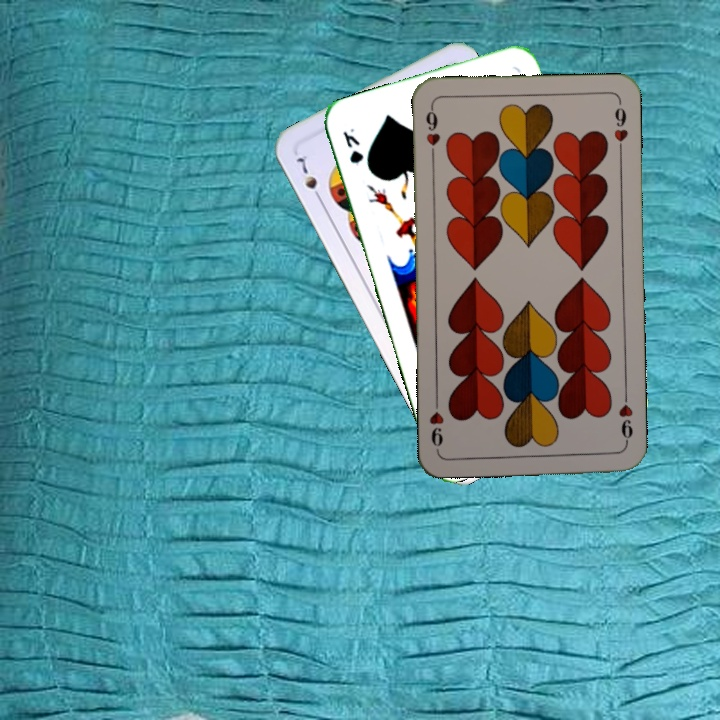GK: (338, 123, 366, 169)
H9: (421, 102, 443, 161), (614, 389, 636, 448)
S7: (292, 151, 325, 205)
